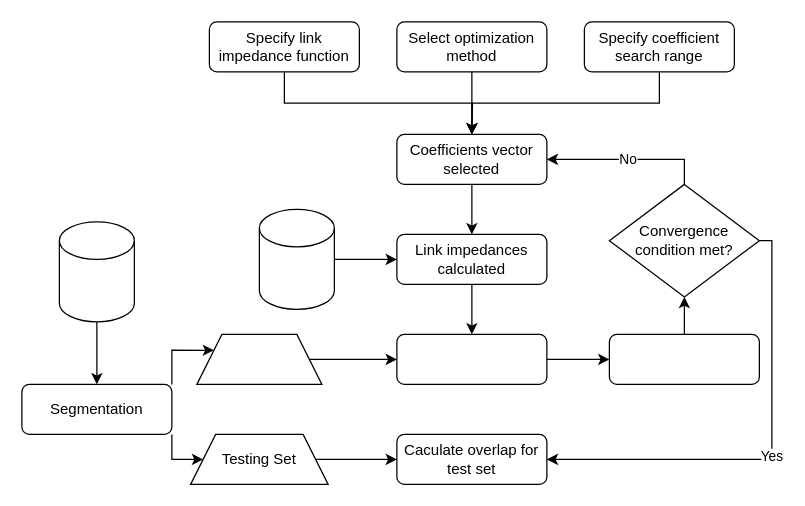
Some shapes in this 805 by 506 pixel diagram are drawn without their labels. Here are the shapes that lost their labels. From the top down, the centre of each, then its label:
(96,271): Matched Traces
(296,258): Network Graph
(259,358): Training Set
(471,358): Shortest path routing
(683,358): Calculate objective function
